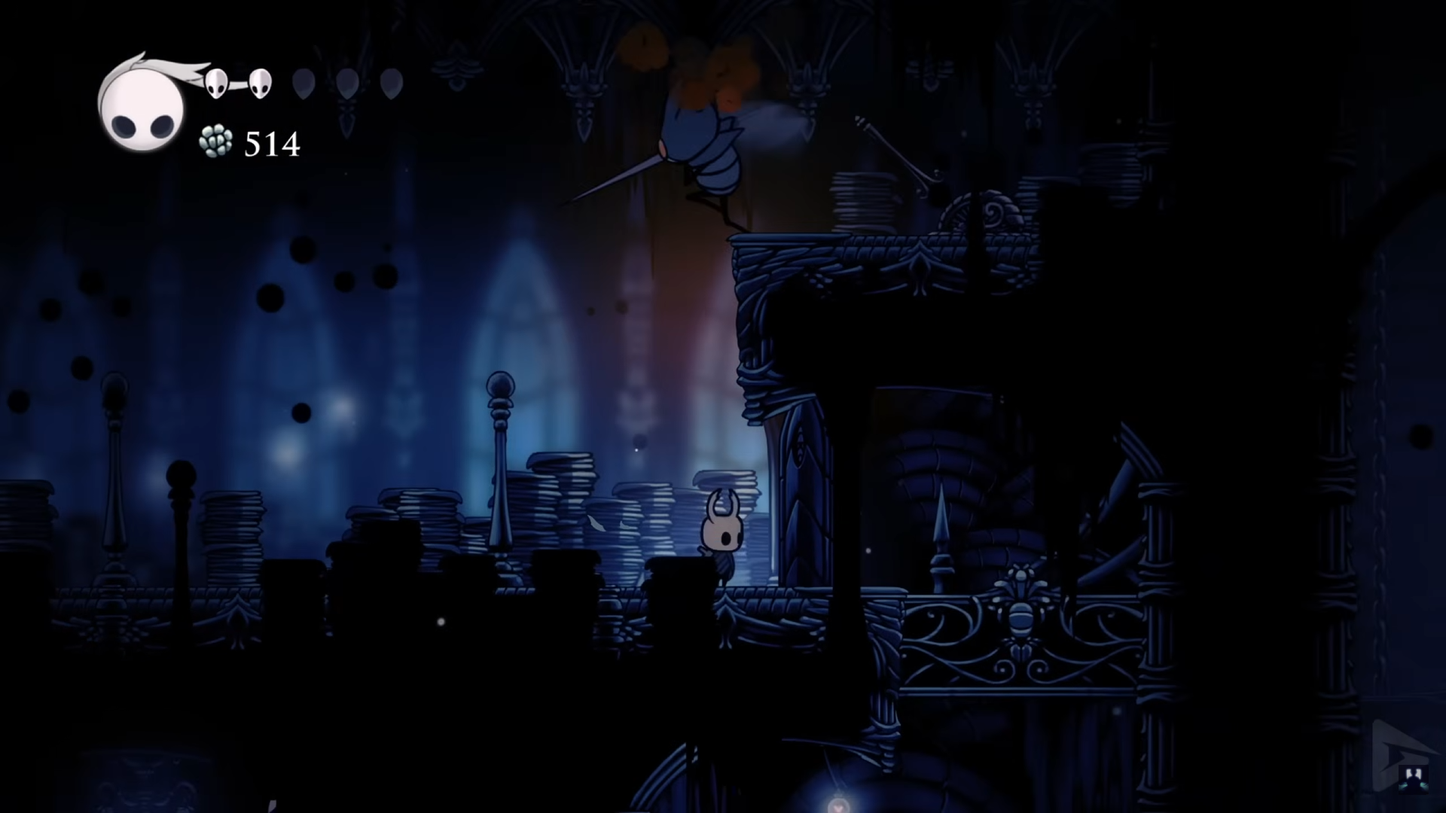HK: (696, 488, 747, 586)
